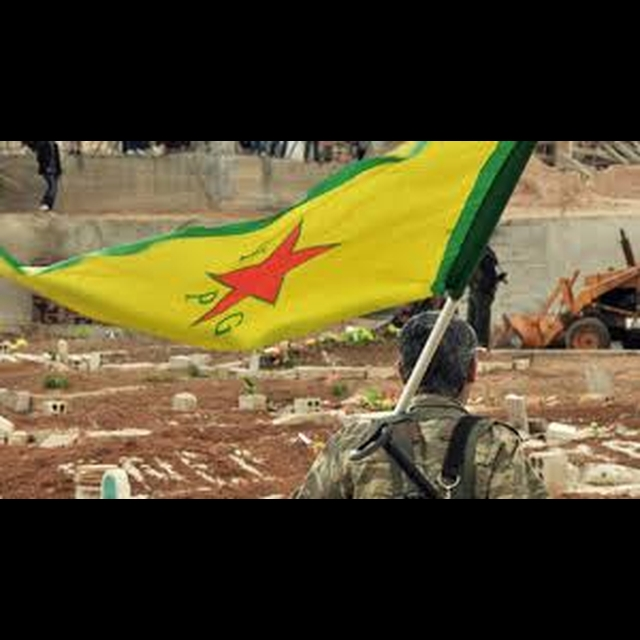YPG: (193, 224, 326, 336)
